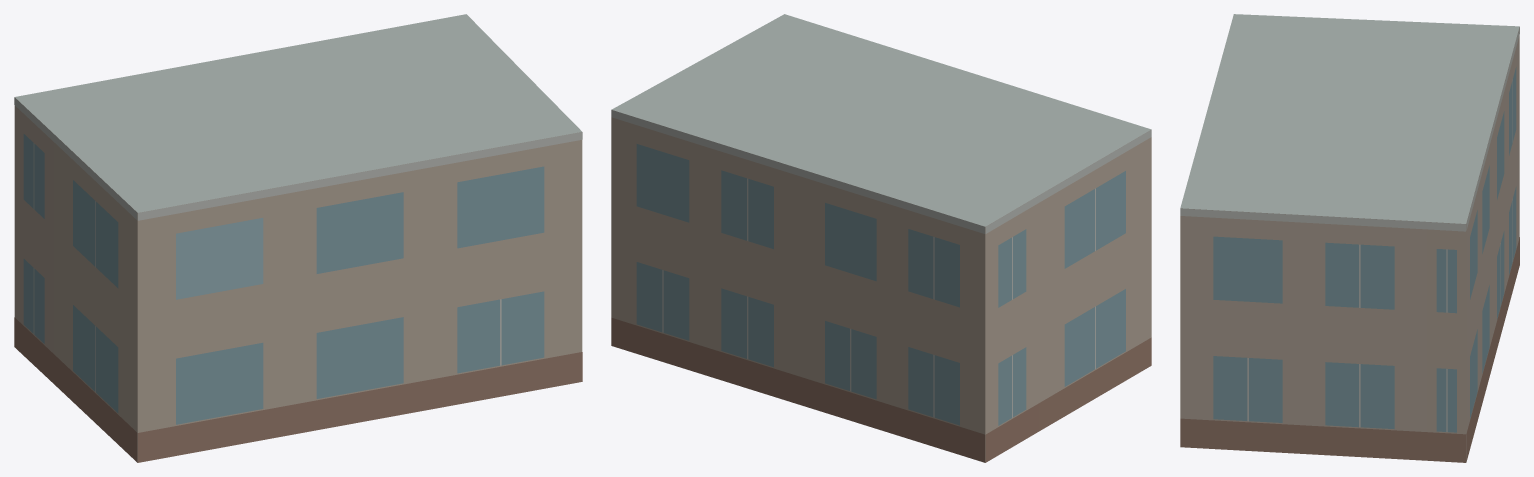
Rendered from survey-upis-32902094.glb.
The picture shows the model from 3 angles, left to right: view 1: azimuth 30°, elevation 25°; view 2: azimuth 150°, elevation 25°; view 3: azimuth 270°, elevation 25°; orthographic projection. The views are drawn at different scales.
Visible parts, largest first — view 1: survey-upis-32902094.tmp; view 2: survey-upis-32902094.tmp; view 3: survey-upis-32902094.tmp.
Part boxes in pixels (x1,y1,x2,y2): survey-upis-32902094.tmp: [14, 14, 582, 462]; survey-upis-32902094.tmp: [611, 14, 1151, 462]; survey-upis-32902094.tmp: [1180, 14, 1519, 462].
Size of the model in its own units: 14.53 by 7.7 by 9.93.
